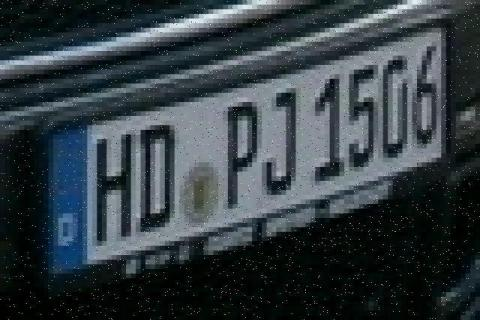LicensePlate: (30, 13, 460, 304)
